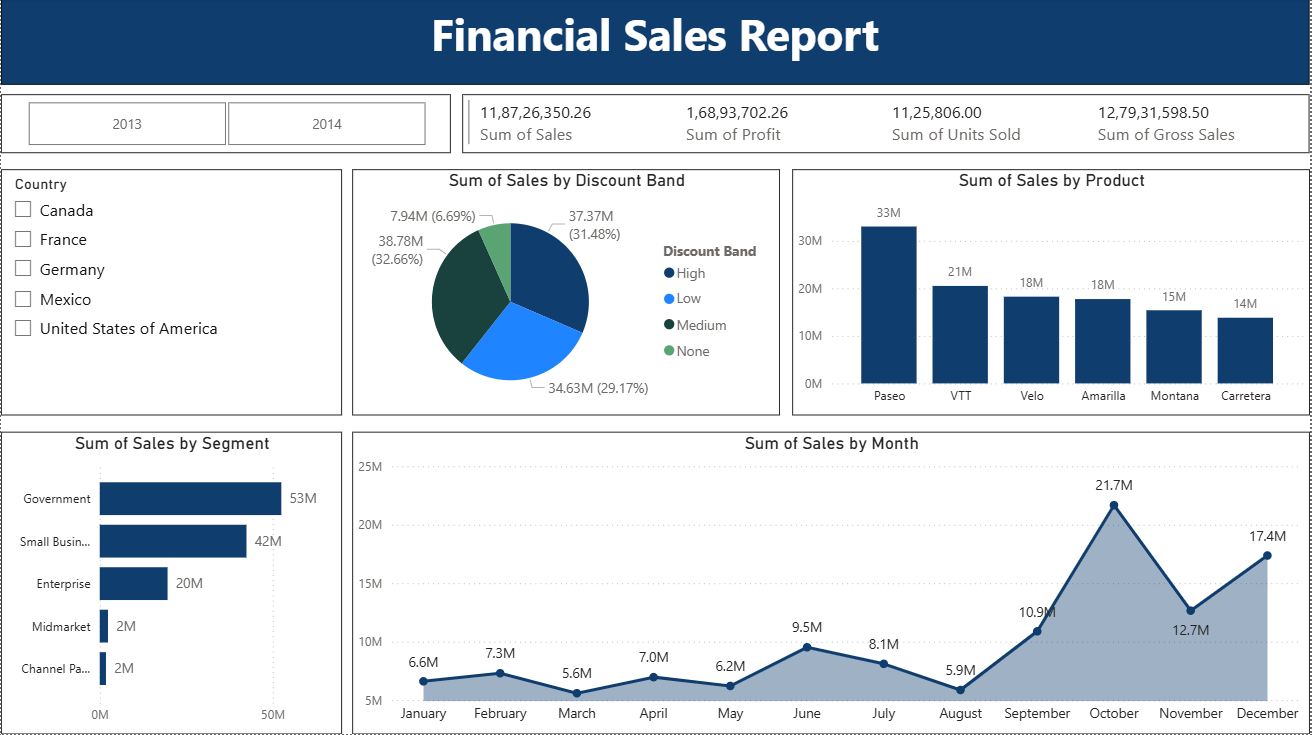

What the dashboard file says about the page in this screenshot:
{"tool":"powerbi","page":{"name":"Sales Report","canvas":[1280,720],"ordinal":0},"visuals":[{"type":"textbox","box":[0,0,1279.7,85.1],"z":0},{"type":"multiRowCard","fields":{"Values":["Sum(financials.Sales)","Sum(financials.Profit)","Sum(financials.Units Sold)","Sum(financials.Gross Sales)"]},"box":[451.2,94.2,829.1,57.5],"z":1000},{"type":"clusteredColumnChart","fields":{"Category":["financials.Product"],"Y":["Sum(financials.Sales)"]},"box":[774.1,167.5,506.3,240.9],"z":2000},{"type":"barChart","fields":{"Category":["financials.Segment"],"Y":["Sum(financials.Sales)"]},"box":[0,424.3,333.8,295.9],"z":3000},{"type":"pieChart","fields":{"Y":["Sum(financials.Sales)"],"Series":["financials.Discount Band"]},"box":[343.6,167.5,418.2,240.9],"z":4000},{"type":"lineChart","fields":{"Y":["Sum(financials.Sales)"],"Category":["financials.Date.Variation.Date Hierarchy.Month"]},"box":[343.6,424.3,936.7,295.9],"z":5000},{"type":"slicer","fields":{"Values":["financials.Country"]},"box":[0,167.5,333.8,240.9],"z":6000},{"type":"slicer","fields":{"Values":["financials.Year"]},"box":[0,94.2,440.2,57.5],"z":7000}]}

Visuals, with their boxes in screenshot pixels (x1, y1, x2, y2), scaled from the page's 1280x720 canvas onto the 1312x735 screenshot:
textbox: (left=0, top=0, right=1311, bottom=87)
multiRowCard - Sum(financials.Sales) x Sum(financials.Profit): (left=462, top=96, right=1311, bottom=155)
clusteredColumnChart - financials.Product x Sum(financials.Sales): (left=793, top=171, right=1311, bottom=417)
barChart - financials.Segment x Sum(financials.Sales): (left=0, top=433, right=342, bottom=734)
pieChart - Sum(financials.Sales) x financials.Discount Band: (left=352, top=171, right=781, bottom=417)
lineChart - Sum(financials.Sales) x financials.Date.Variation.Date Hierarchy.Month: (left=352, top=433, right=1311, bottom=734)
slicer - financials.Country: (left=0, top=171, right=342, bottom=417)
slicer - financials.Year: (left=0, top=96, right=451, bottom=155)
